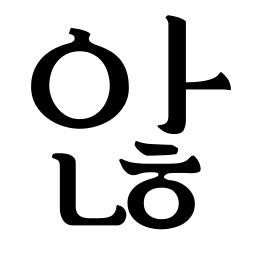Gaji: (150, 63, 204, 110)
